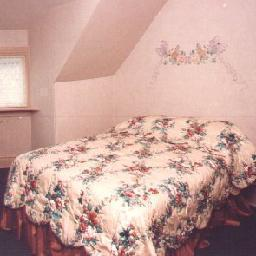Cama: (9, 121, 239, 226)
